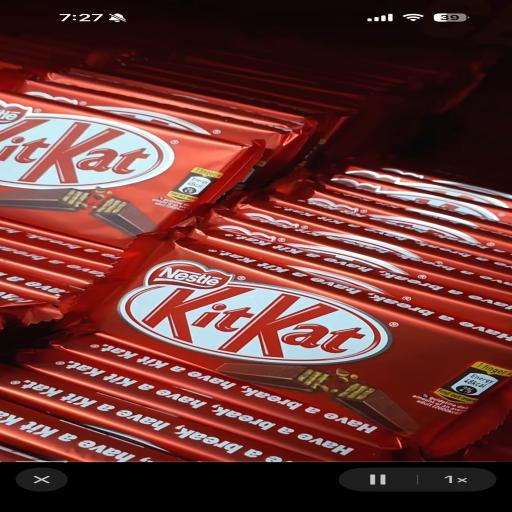kitkat: (87, 233, 512, 434)
